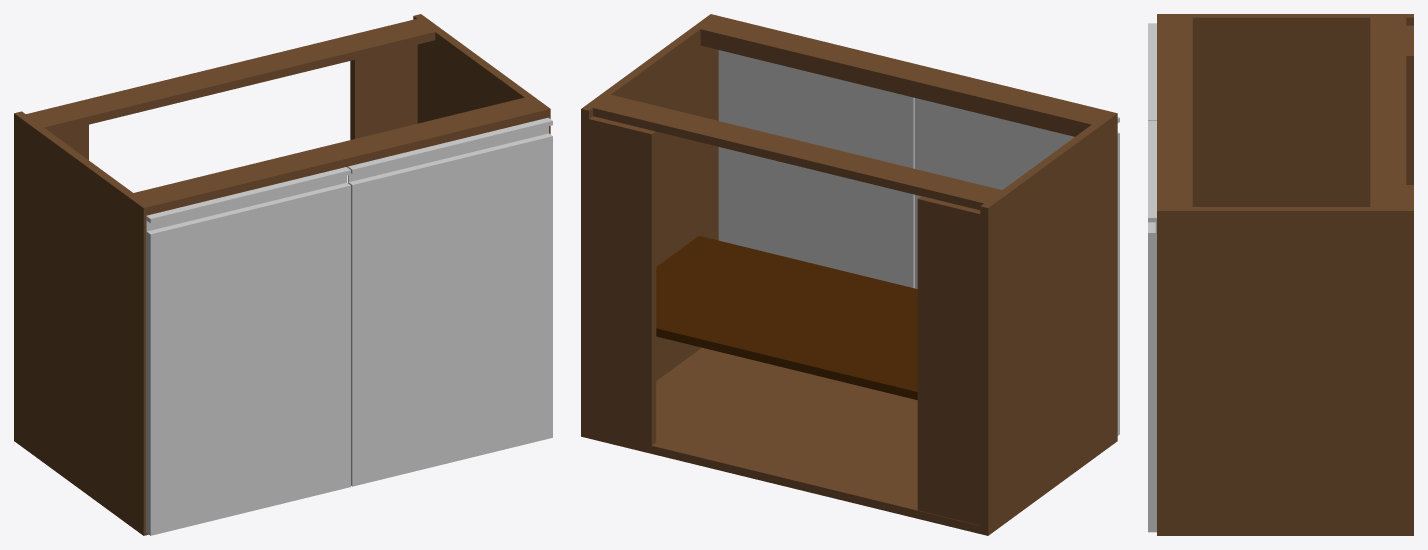
Rendered from proyecto.glb.
The picture shows the model from 3 angles, left to right: view 1: azimuth 30°, elevation 25°; view 2: azimuth 150°, elevation 25°; view 3: azimuth 270°, elevation 25°; orthographic projection.
Parts seen in each view (by area): view 1: P002, P010, P004, P009, P006, P001, P007, P011; view 2: P004, P010, P005, P003, P007, P011, P001, P009, P006, P002, P008; view 3: P001, P004, P006, P009, P010, P011, P002.
Boxes of the visible parts, x1=… form: P002: x1=146, y1=167, x2=350, y2=535; P010: x1=348, y1=117, x2=552, y2=486; P004: x1=14, y1=111, x2=151, y2=535; P009: x1=134, y1=97, x2=542, y2=214; P006: x1=26, y1=19, x2=435, y2=133; P001: x1=413, y1=14, x2=550, y2=134; P007: x1=350, y1=44, x2=417, y2=139; P011: x1=52, y1=124, x2=88, y2=159; P004: x1=980, y1=111, x2=1117, y2=535; P010: x1=718, y1=50, x2=914, y2=288; P005: x1=588, y1=347, x2=980, y2=533; P003: x1=656, y1=236, x2=917, y2=400; P007: x1=589, y1=116, x2=656, y2=445; P011: x1=917, y1=196, x2=980, y2=525; P001: x1=581, y1=14, x2=718, y2=438; P009: x1=700, y1=16, x2=1109, y2=130; P006: x1=593, y1=95, x2=1001, y2=210; P002: x1=915, y1=98, x2=1119, y2=435; P008: x1=700, y1=37, x2=1082, y2=136; P001: x1=1157, y1=207, x2=1413, y2=535; P004: x1=1157, y1=14, x2=1413, y2=206; P006: x1=1370, y1=17, x2=1406, y2=207; P009: x1=1157, y1=17, x2=1192, y2=207; P010: x1=1148, y1=121, x2=1156, y2=532; P011: x1=1406, y1=25, x2=1413, y2=184; P002: x1=1148, y1=23, x2=1156, y2=120.
Size of the model in its own units: 0.7796 by 0.6 by 0.445.
